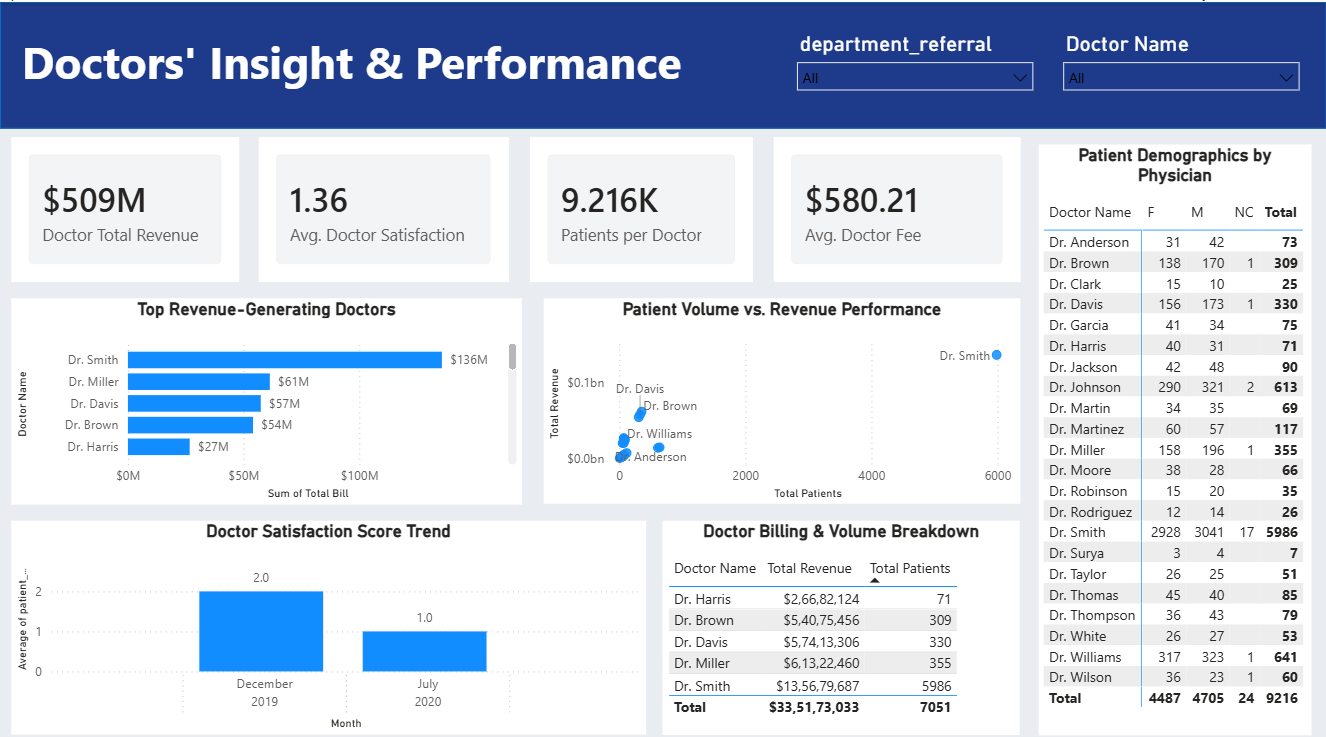

The page's visual inventory and layout, read from the dashboard file:
{"tool":"powerbi","page":{"name":"Docters Insight And Performance","canvas":[1280,720],"ordinal":1},"visuals":[{"type":"pivotTable","title":"Patient Demographics by Physician","fields":{"Rows":["Fact_Doctor_Billing.Doctor Name"],"Values":["Count(Fact_Visits.patient_id)"],"Columns":["Fact_Visits.patient_gender"]},"box":[1002.7,137,262.9,571.1],"z":0},{"type":"slicer","fields":{"Values":["Fact_Doctor_Billing.Doctor Name"]},"box":[1045,11.4,219.6,74.1],"z":1000},{"type":"shape","box":[0,0,1280.3,122.3],"z":2000},{"type":"slicer","fields":{"Values":["Fact_Doctor_Billing.Doctor Name"]},"box":[1016.2,23.2,248.2,74.6],"z":3000},{"type":"slicer","fields":{"Values":["Fact_Visits.department_referral"]},"box":[759.4,23.2,248.2,74.6],"z":4000},{"type":"textbox","box":[0,23.2,678.7,74.6],"z":5000},{"type":"cardVisual","fields":{"Data":["Avg(Fact_Visits.patient_sat_score)"]},"box":[250,130,241.2,140],"z":6000},{"type":"cardVisual","fields":{"Data":["Count(Fact_Visits.patient_id)"]},"box":[511.2,130,215,140],"z":7000},{"type":"cardVisual","fields":{"Data":["Avg(Fact_Doctor_Billing.Appointment Fees)"]},"box":[746.2,130,238.8,140],"z":8000},{"type":"cardVisual","fields":{"Data":["Sum(Fact_Doctor_Billing.Total Bill)"]},"box":[11.2,130,220,140],"z":9000},{"type":"clusteredBarChart","title":"Top Revenue-Generating Doctors","fields":{"Category":["Fact_Doctor_Billing.Doctor Name"],"Y":["Sum(Fact_Doctor_Billing.Total Bill)"]},"box":[11.2,286.2,492.8,199.3],"z":10000},{"type":"scatterChart","title":"Patient Volume vs. Revenue Performance","fields":{"Category":["Fact_Doctor_Billing.Doctor Name"],"X":["Fact_Visits.patient_id"],"Y":["Sum(Fact_Doctor_Billing.Total Bill)"]},"box":[525,286.2,460,198.8],"z":11000},{"type":"clusteredColumnChart","title":"Doctor Satisfaction Score Trend","fields":{"Category":["Dim_Date.Date.Variation.Date Hierarchy.Year","Dim_Date.Date.Variation.Date Hierarchy.Month"],"Y":["Avg(Fact_Visits.patient_sat_score)"]},"box":[11.2,501.2,612.5,206.2],"z":12000},{"type":"tableEx","title":"Doctor Billing & Volume Breakdown","fields":{"Values":["Fact_Doctor_Billing.Doctor Name","Sum(Fact_Doctor_Billing.Total Bill)","Fact_Doctor_Billing.patient_id"]},"box":[640,501.2,345,207.5],"z":13000}]}

Visuals, with their boxes in screenshot pixels (x1, y1, x2, y2), scaled from the page's 1280x720 canvas onto the 1326x737 screenshot:
"Patient Demographics by Physician" pivotTable: bbox=(1039, 140, 1311, 725)
slicer - Fact_Doctor_Billing.Doctor Name: bbox=(1083, 12, 1310, 88)
shape: bbox=(0, 0, 1325, 125)
slicer - Fact_Doctor_Billing.Doctor Name: bbox=(1053, 24, 1310, 100)
slicer - Fact_Visits.department_referral: bbox=(787, 24, 1044, 100)
textbox: bbox=(0, 24, 703, 100)
cardVisual - Avg(Fact_Visits.patient_sat_score): bbox=(259, 133, 509, 276)
cardVisual - Count(Fact_Visits.patient_id): bbox=(530, 133, 752, 276)
cardVisual - Avg(Fact_Doctor_Billing.Appointment Fees): bbox=(773, 133, 1020, 276)
cardVisual - Sum(Fact_Doctor_Billing.Total Bill): bbox=(12, 133, 240, 276)
"Top Revenue-Generating Doctors" clusteredBarChart: bbox=(12, 293, 522, 497)
"Patient Volume vs. Revenue Performance" scatterChart: bbox=(544, 293, 1020, 496)
"Doctor Satisfaction Score Trend" clusteredColumnChart: bbox=(12, 513, 646, 724)
"Doctor Billing & Volume Breakdown" tableEx: bbox=(663, 513, 1020, 725)
